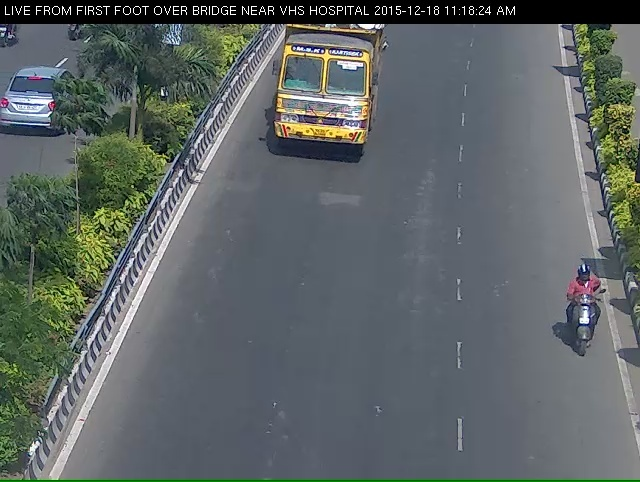Bus: (262, 23, 376, 164)
Person: (564, 279, 609, 377)
